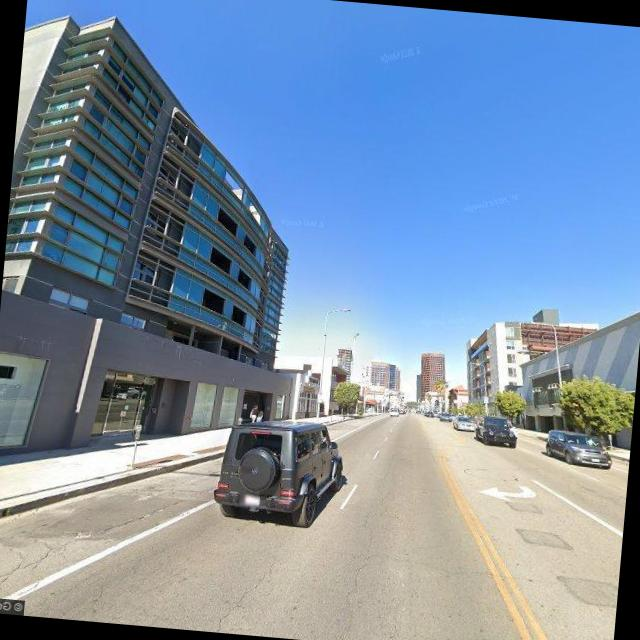pothole: (204, 553, 280, 636), (0, 533, 62, 598)
